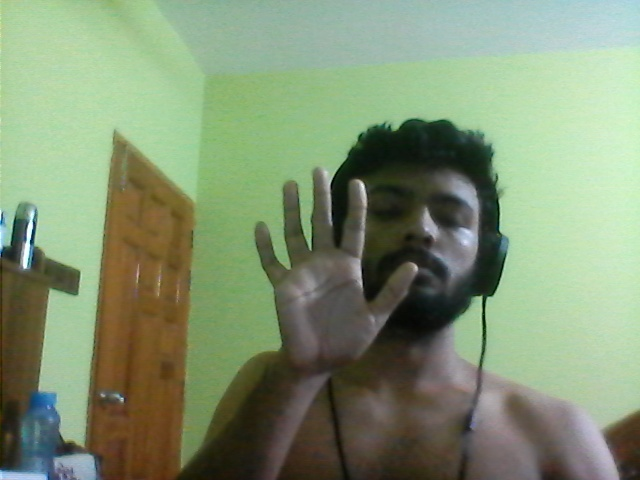Hello: (243, 154, 421, 383)
